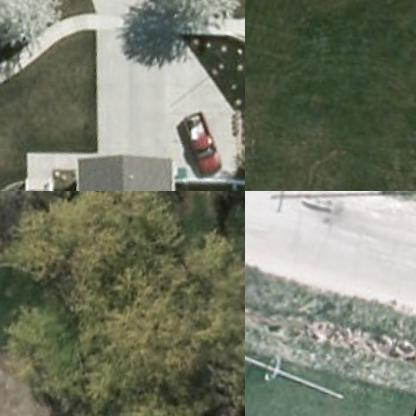pickup: (170, 102, 235, 176)
